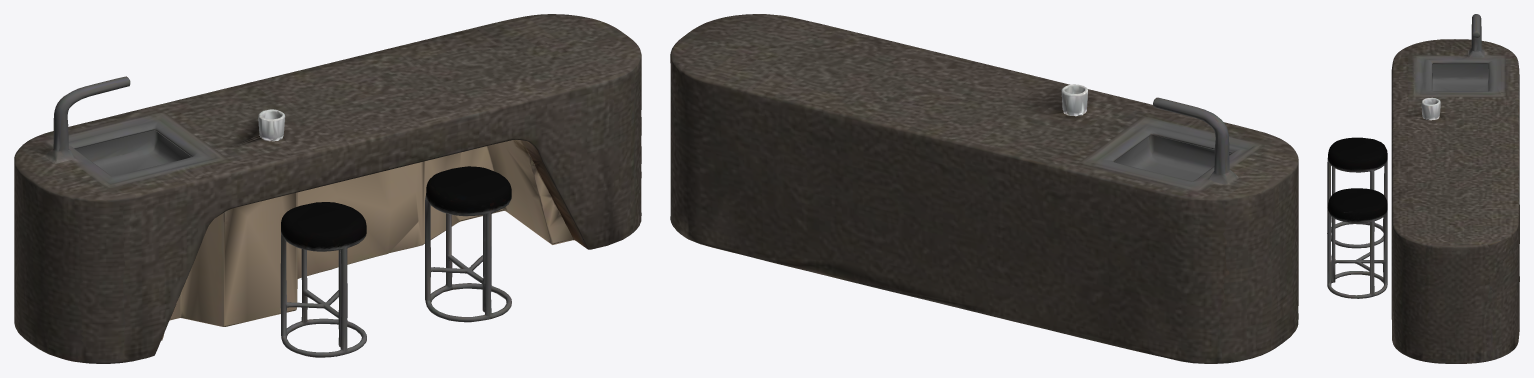
File: O005pIvdw2L808YB7dgA6.glb
The picture shows the model from 3 angles, left to right: view 1: azimuth 30°, elevation 25°; view 2: azimuth 150°, elevation 25°; view 3: azimuth 270°, elevation 25°; orthographic projection. The views are drawn at different scales.
Visible parts, largest first — view 1: geometry_0; view 2: geometry_0; view 3: geometry_0.
Part boxes in pixels (x1=…): geometry_0: x1=14, y1=14, x2=641, y2=363; geometry_0: x1=670, y1=14, x2=1298, y2=363; geometry_0: x1=1327, y1=14, x2=1519, y2=363.
Size of the model in its own units: 1 by 0.3703 by 0.3928.
Materials: 1 (1 with a texture image).
